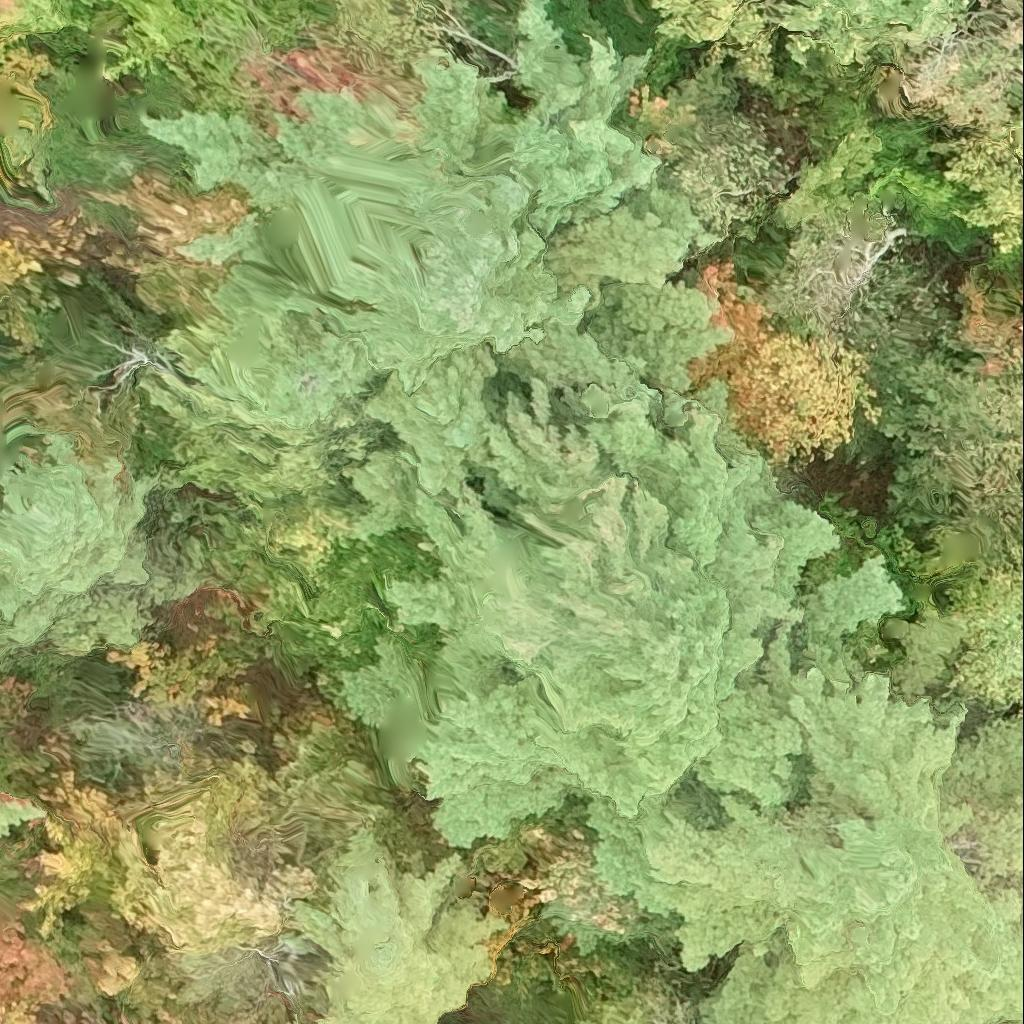crown: (588, 606, 1023, 1023), (575, 979, 699, 1023)
